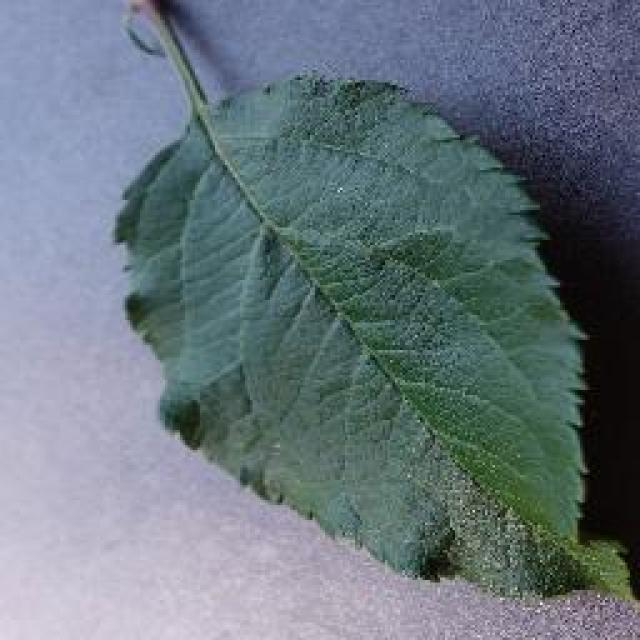apple healthy: (108, 0, 638, 608)
